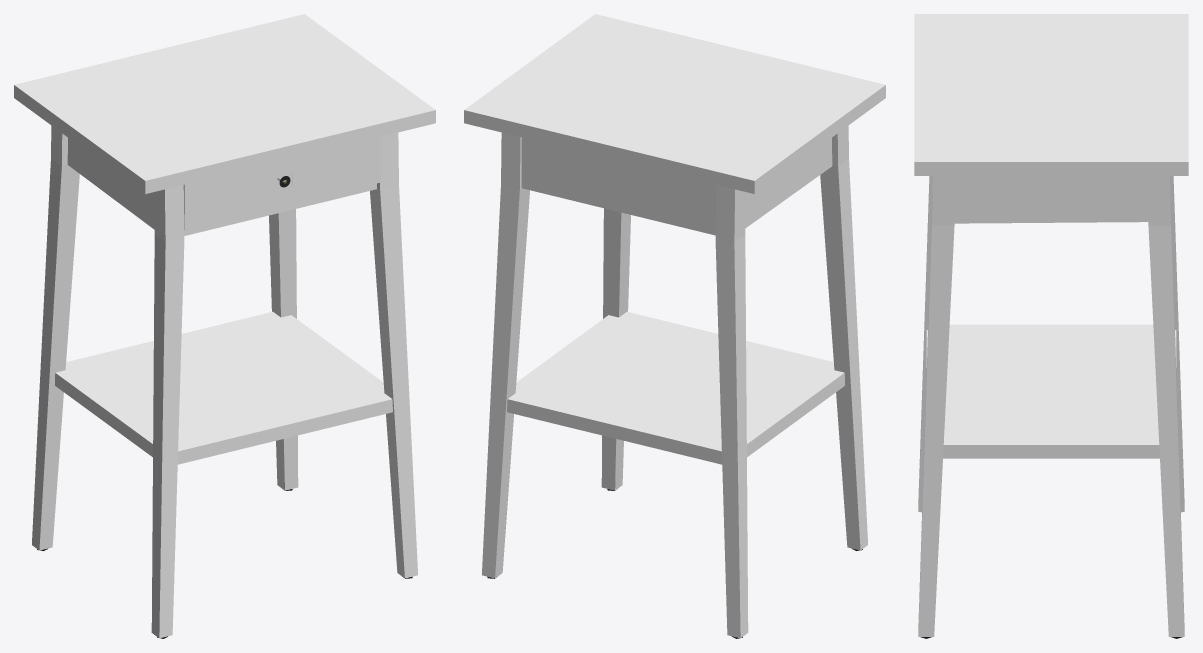
3 views of the same model, side by side, from view 1: azimuth 30°, elevation 25°; view 2: azimuth 150°, elevation 25°; view 3: azimuth 270°, elevation 25° (orthographic). The views are drawn at different scales.
Visible parts, largest first — view 1: NightstandA_Frame, Nightstand_Drawer; view 2: NightstandA_Frame; view 3: NightstandA_Frame.
Boxes of the visible parts, box(x1,y1,x2,y2) form: NightstandA_Frame: box(14, 14, 435, 638); Nightstand_Drawer: box(183, 137, 380, 230); NightstandA_Frame: box(464, 14, 885, 638); NightstandA_Frame: box(914, 14, 1188, 638).
Bounding box in the file's own units: 0.46 × 0.7036 × 0.36.
1 material, 1 textured.
